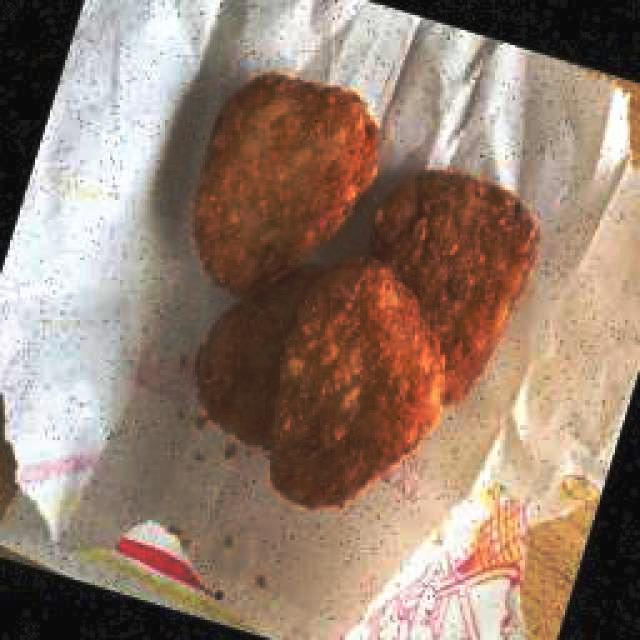Hashbrown: (188, 71, 378, 296), (277, 260, 442, 508), (380, 170, 541, 400), (195, 274, 284, 458)
